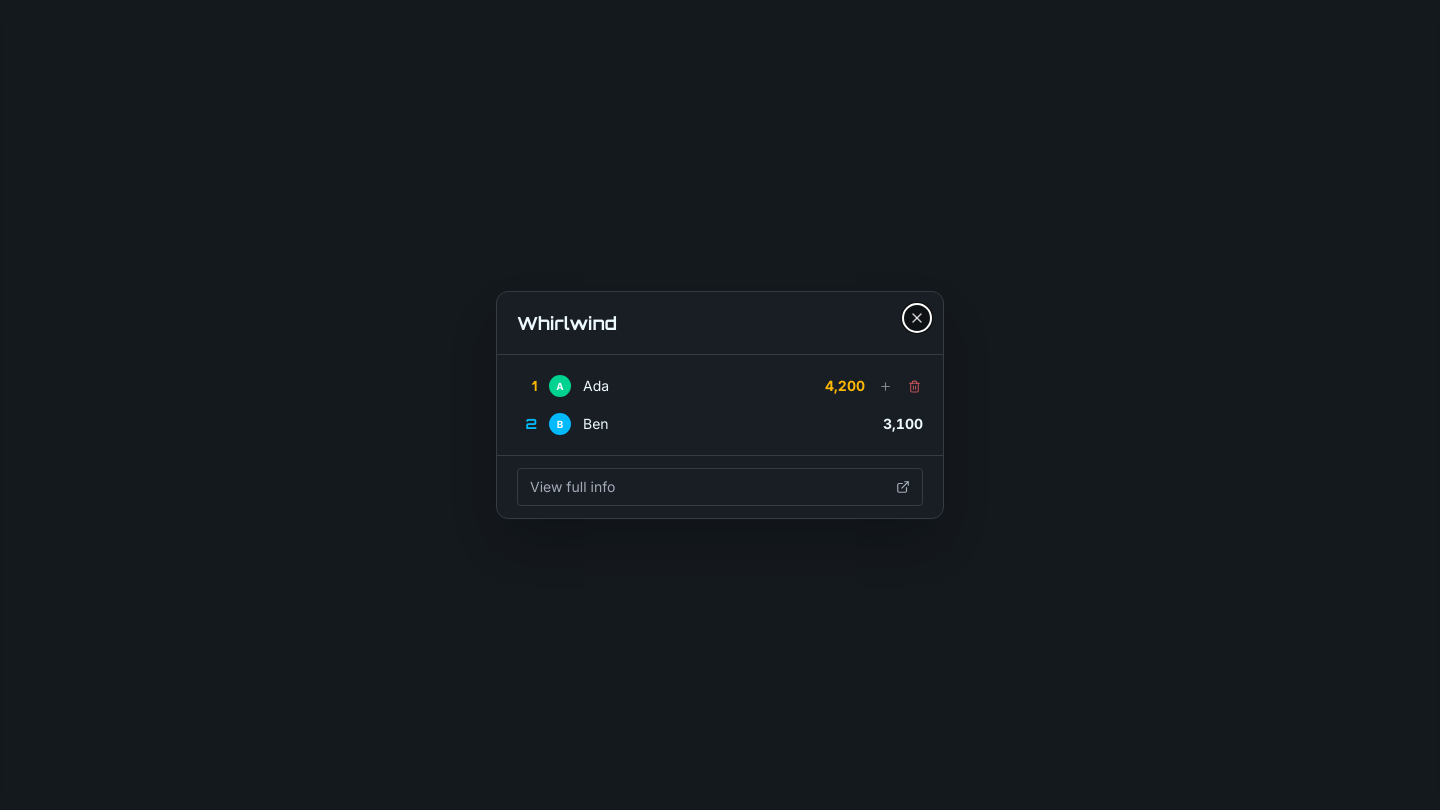
Test: GameQuickView — nested per-player history › deletes a nested history row by its own id
Click the button named "Show score history" at (886, 386), box left=875, top=376, right=896, bottom=397
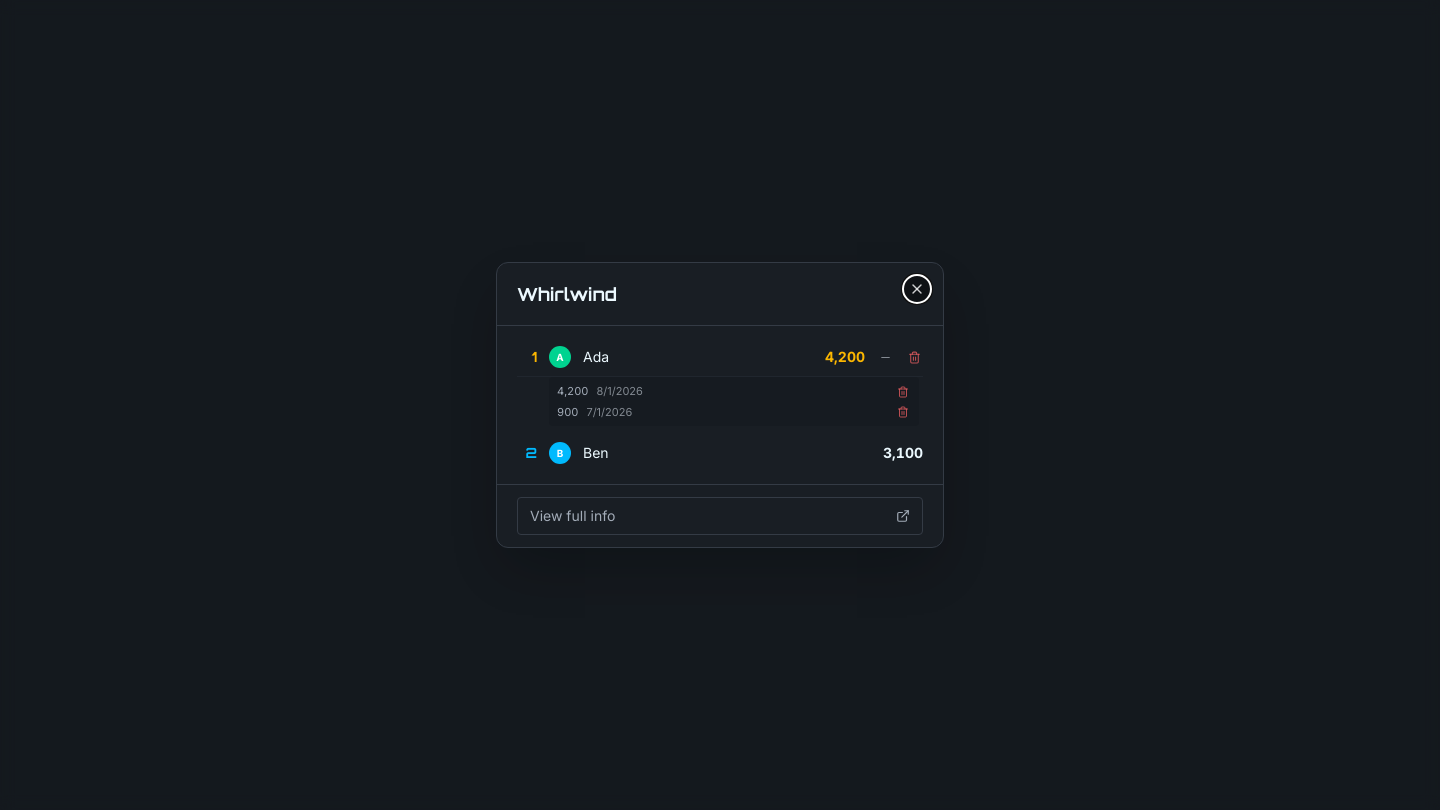
Click the button named "Delete this score (900)" at (903, 412), box left=893, top=402, right=913, bottom=422
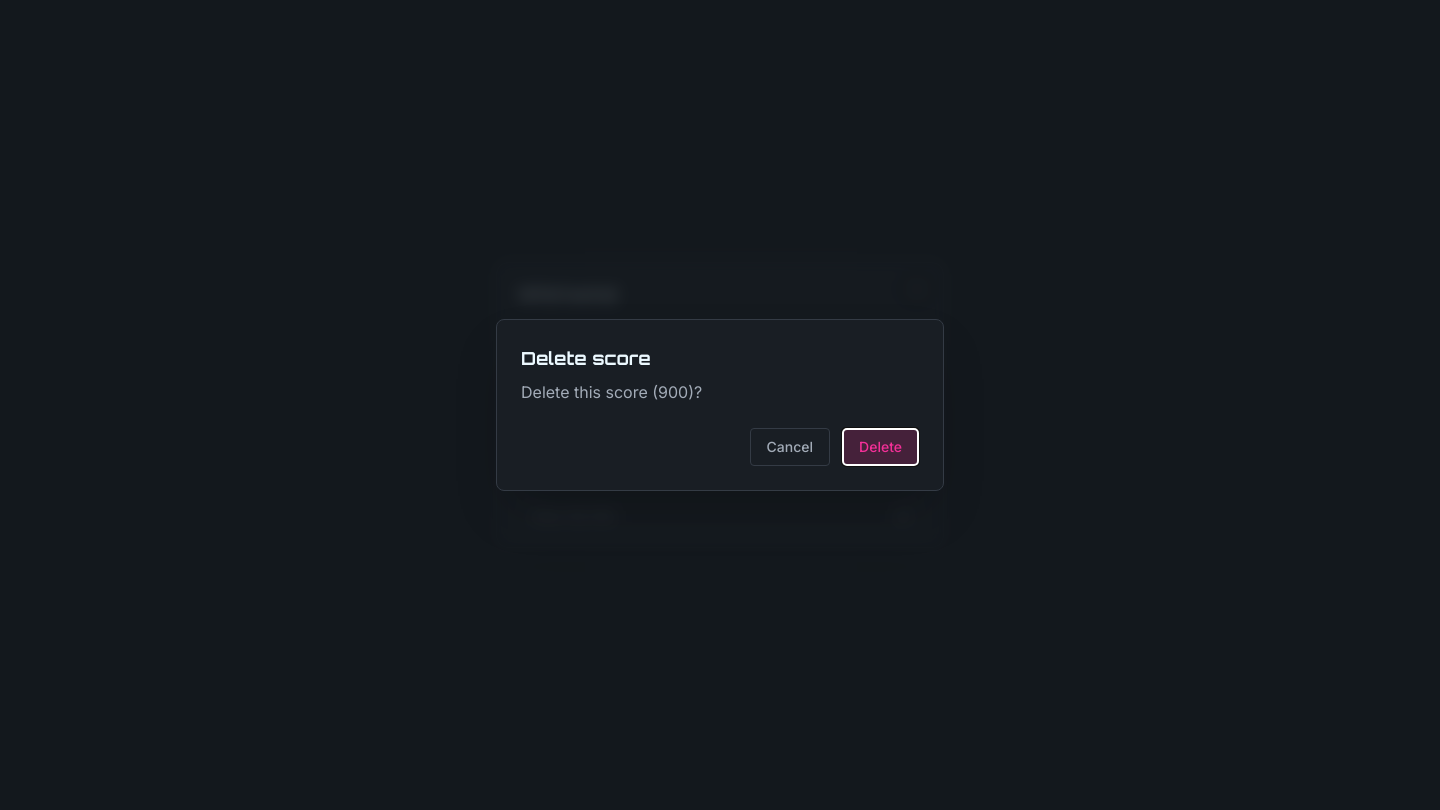
Click the button "Delete" at (881, 447), box left=842, top=428, right=919, bottom=466
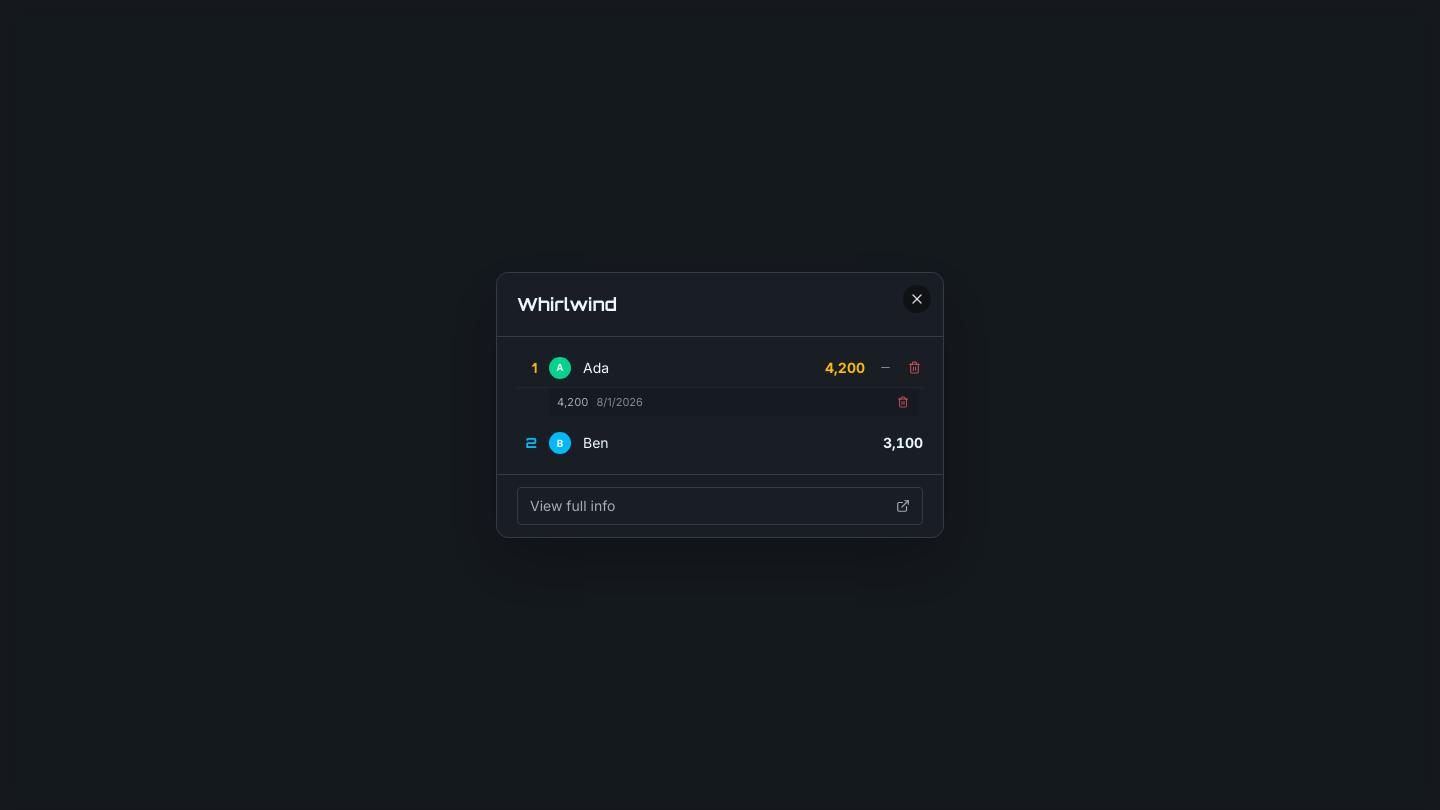
Result: the text "900" is gone
